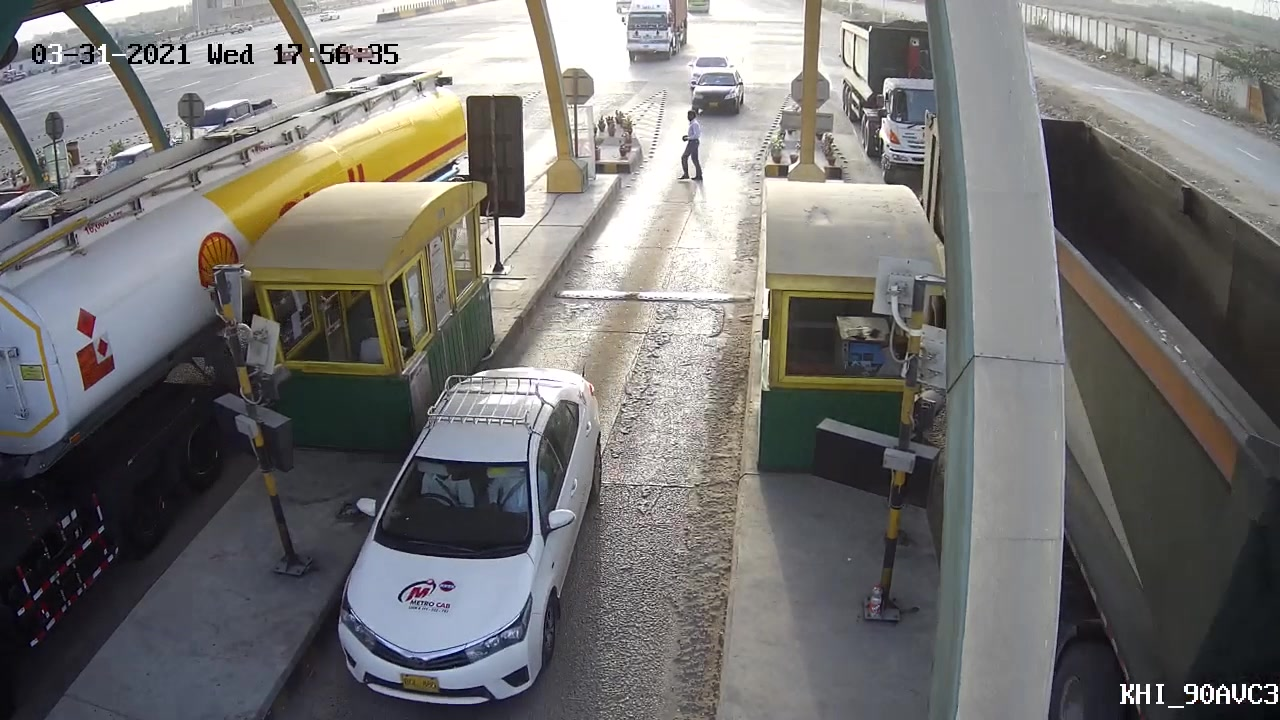F1: (333, 364, 614, 714)
